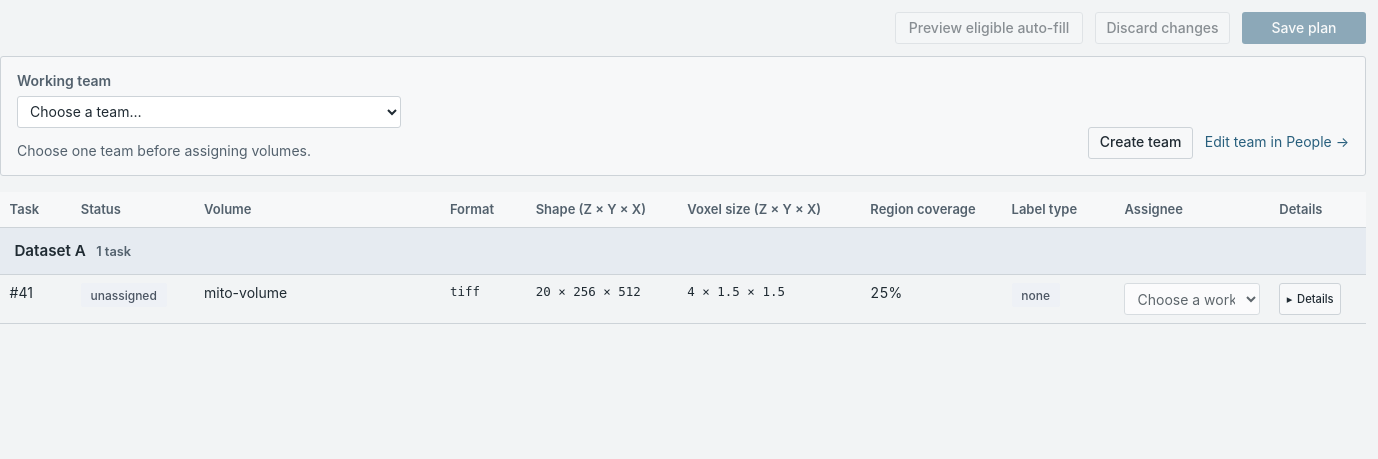
AssignmentPlanEditor annotation time column › puts a compact Time field immediately right of Instructions
Check: the dropdown labelled "Working team" is shown, box [17, 96, 401, 128]
Click the button "▸ Details": (1310, 299) [1279, 283, 1341, 315]
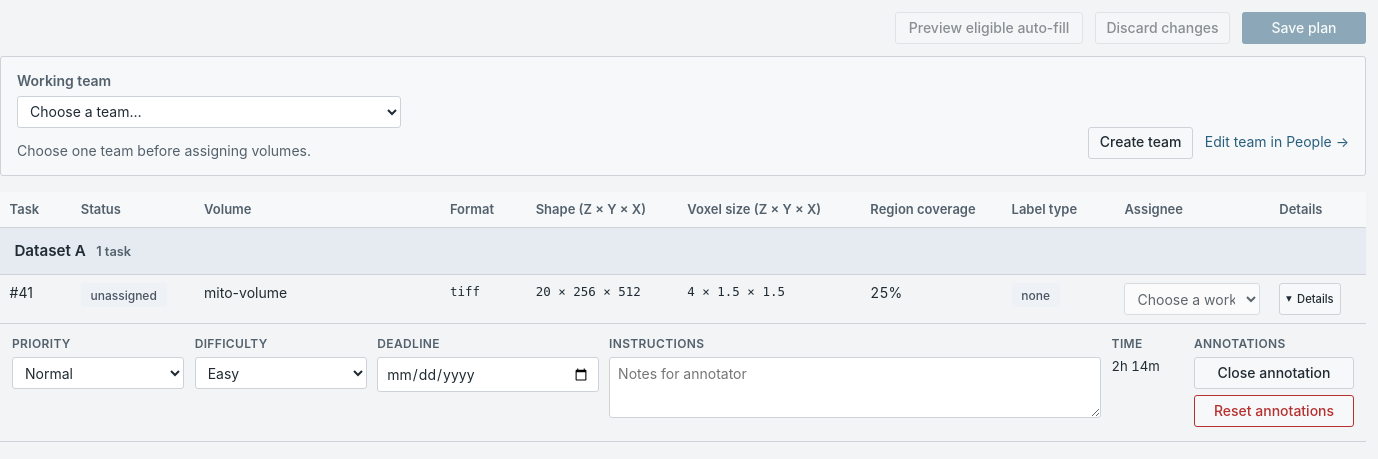
Check: the text "Time" is shown, box [1112, 336, 1143, 351]
Check: the text "2h 14m" is shown, box [1112, 358, 1160, 374]
